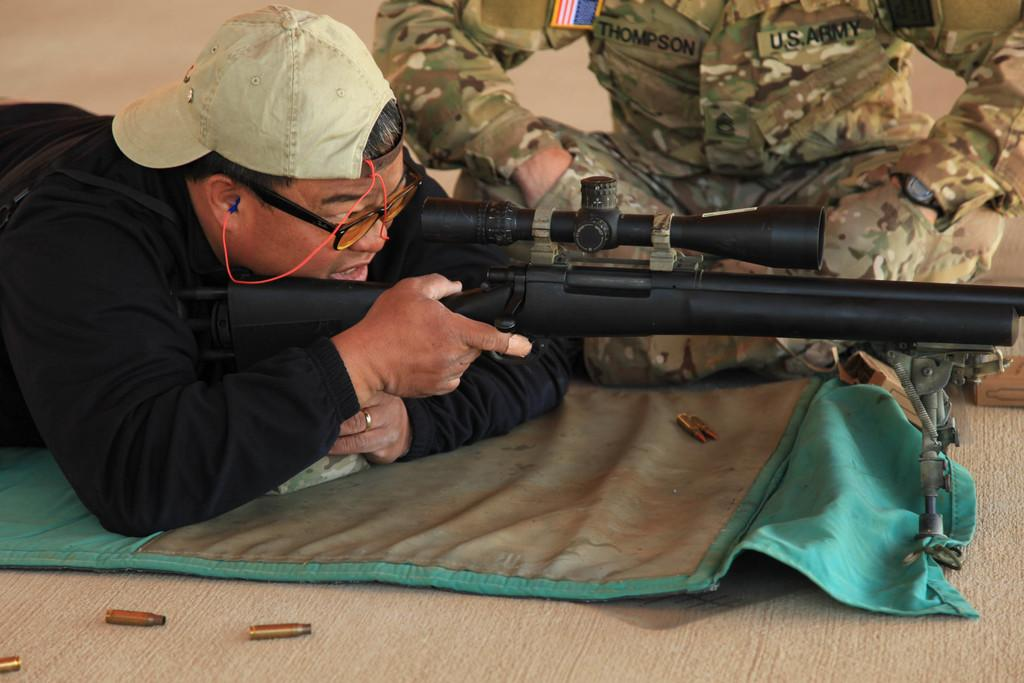Rifle: (170, 176, 1023, 366)
